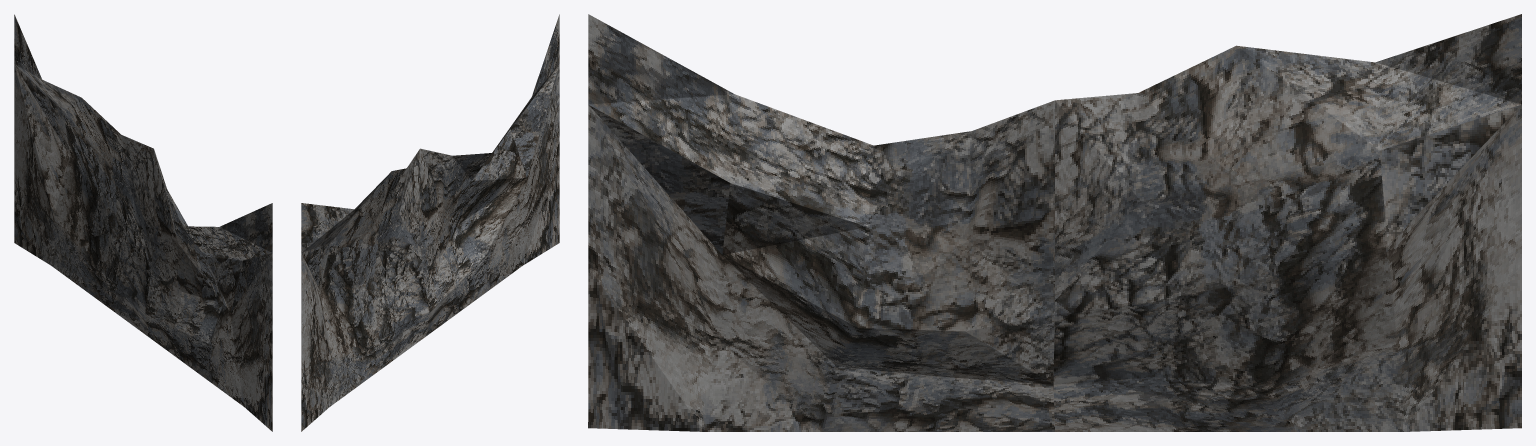
The model's file is lowWallToplowWallTop_03_seamless.glb.
The picture shows the model from 3 angles, left to right: view 1: azimuth 30°, elevation 25°; view 2: azimuth 150°, elevation 25°; view 3: azimuth 270°, elevation 25°; orthographic projection. The views are drawn at different scales.
Parts seen in each view (by area): view 1: lowWallTop_03_seamless; view 2: lowWallTop_03_seamless; view 3: lowWallTop_03_seamless.
Part boxes in pixels (x1,y1,x2,y2): lowWallTop_03_seamless: (14,14,272,431); lowWallTop_03_seamless: (301,14,559,431); lowWallTop_03_seamless: (588,14,1521,431).
Bounding box in the file's own units: 1.36 × 7.83 × 16.
1 material, 1 textured.
